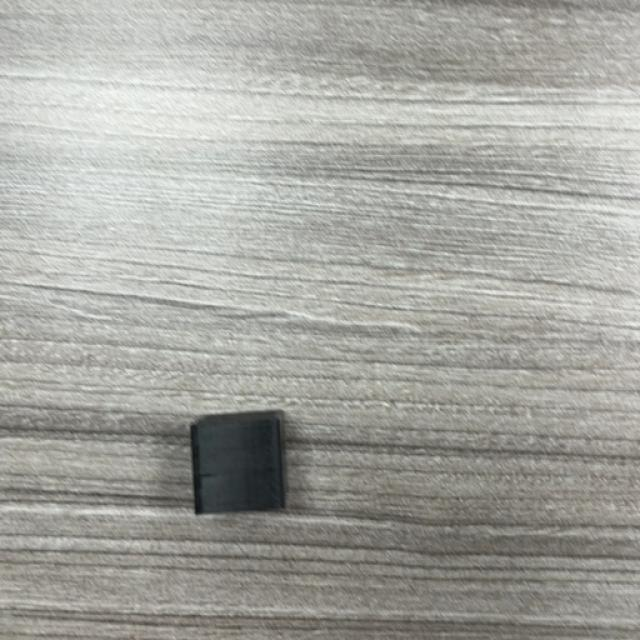Negro: (189, 411, 286, 515)
